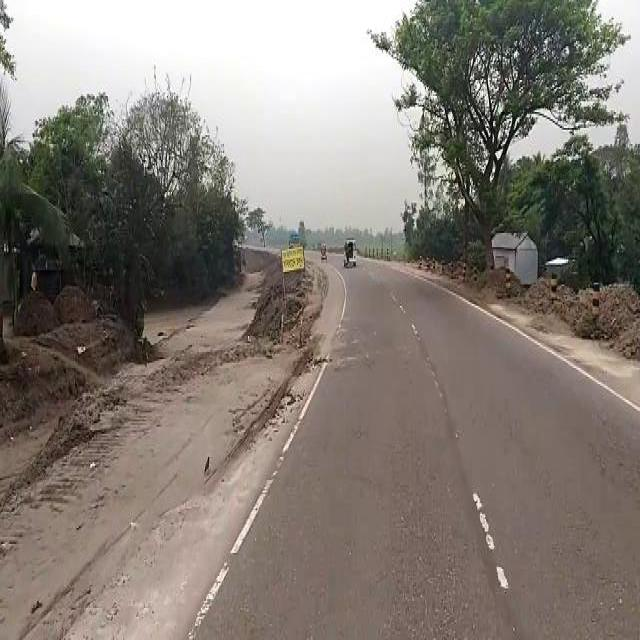vehicle: (343, 239, 357, 269), (321, 245, 328, 263), (289, 234, 301, 244)
